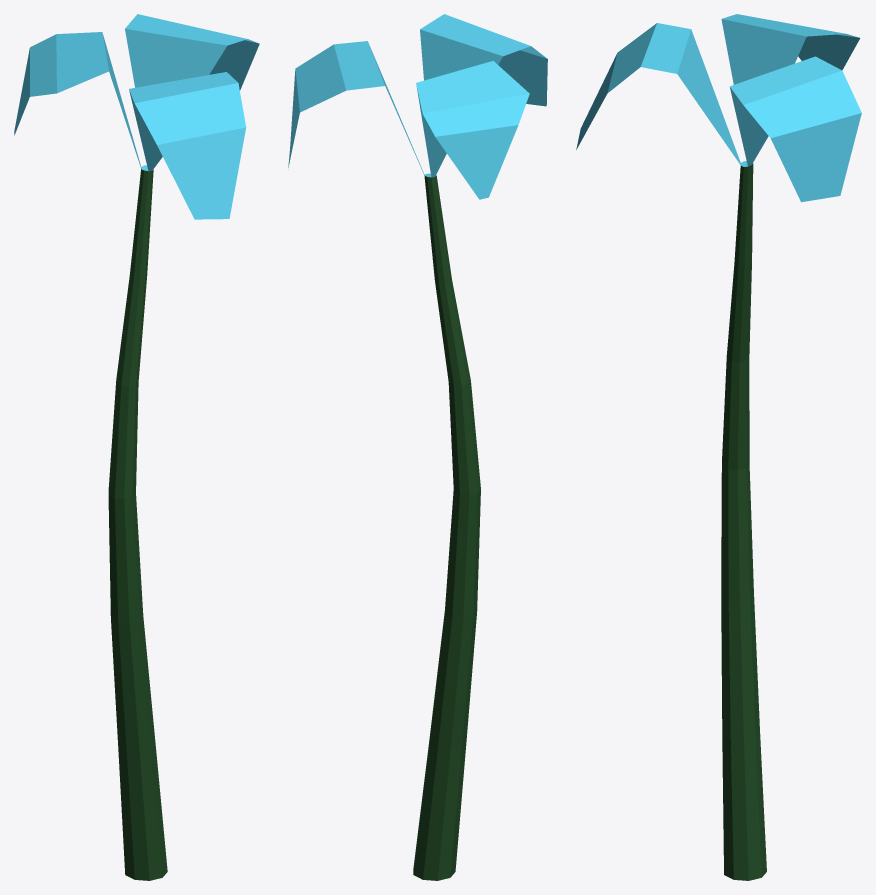
Rendered from Plant_3b.fbx.
3 views of the same model, side by side, from view 1: azimuth 30°, elevation 25°; view 2: azimuth 150°, elevation 25°; view 3: azimuth 270°, elevation 25° (orthographic).
Parts seen in each view (by area): view 1: Circle; view 2: Circle; view 3: Circle.
Boxes of the visible parts, <box> form: Circle: <box>14,14,259,880</box>; Circle: <box>288,14,547,880</box>; Circle: <box>576,14,861,880</box>.
Size of the model in its own units: 22.62 by 77.99 by 24.37.
